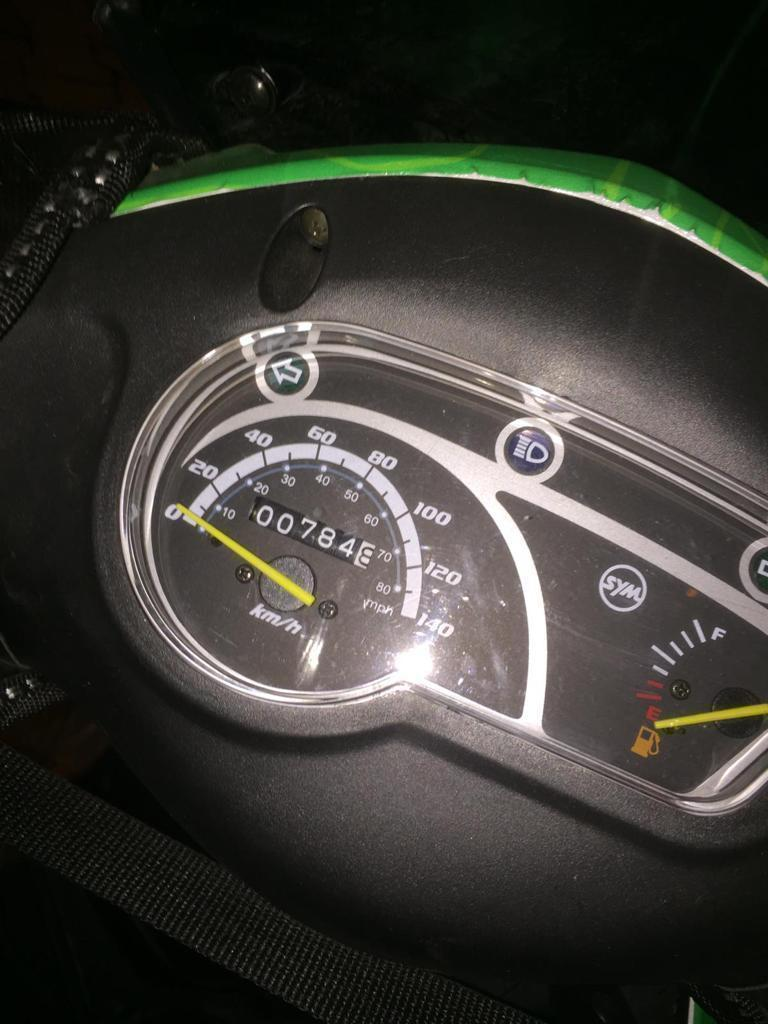0: (255, 503, 273, 527), (276, 510, 293, 535), (351, 491, 359, 503), (370, 515, 378, 527)
4: (336, 535, 356, 559)
5: (343, 491, 351, 500)
6: (363, 512, 371, 524)
7: (299, 515, 316, 541)
8: (317, 525, 335, 550), (357, 545, 374, 568)
odometer: (241, 491, 379, 573)
